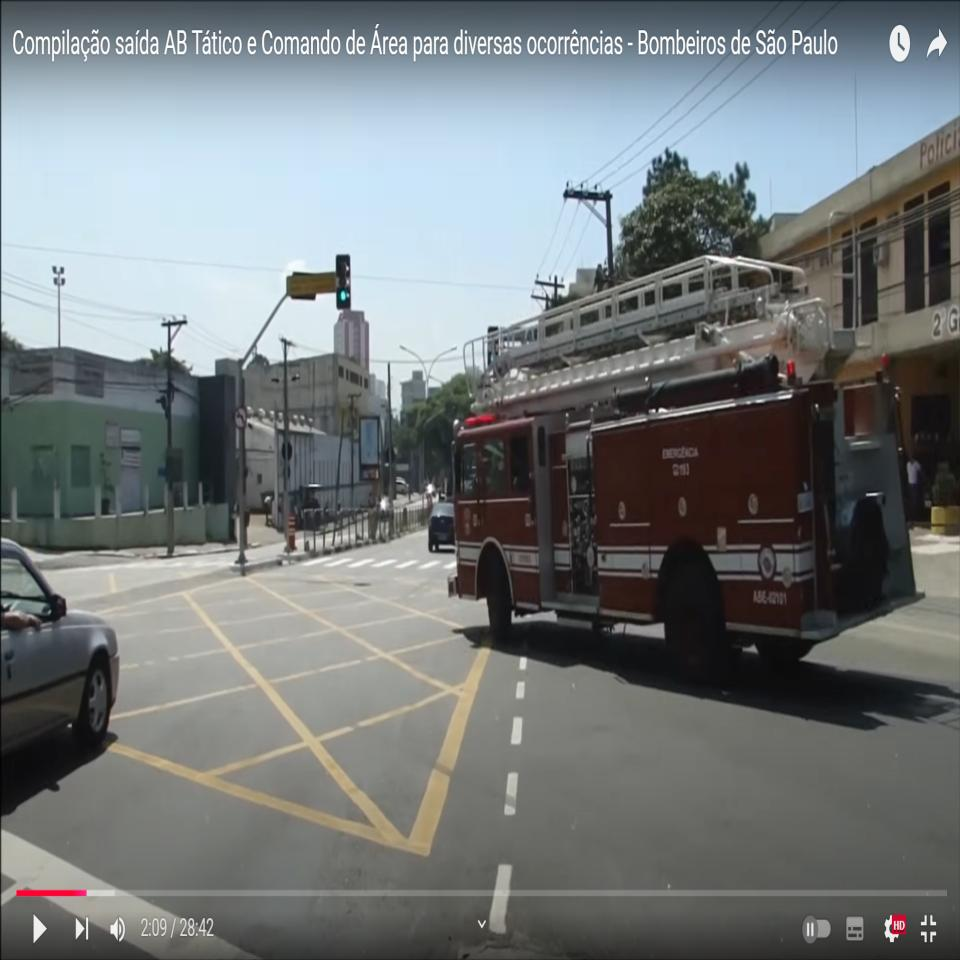viatura: (444, 250, 924, 694)
